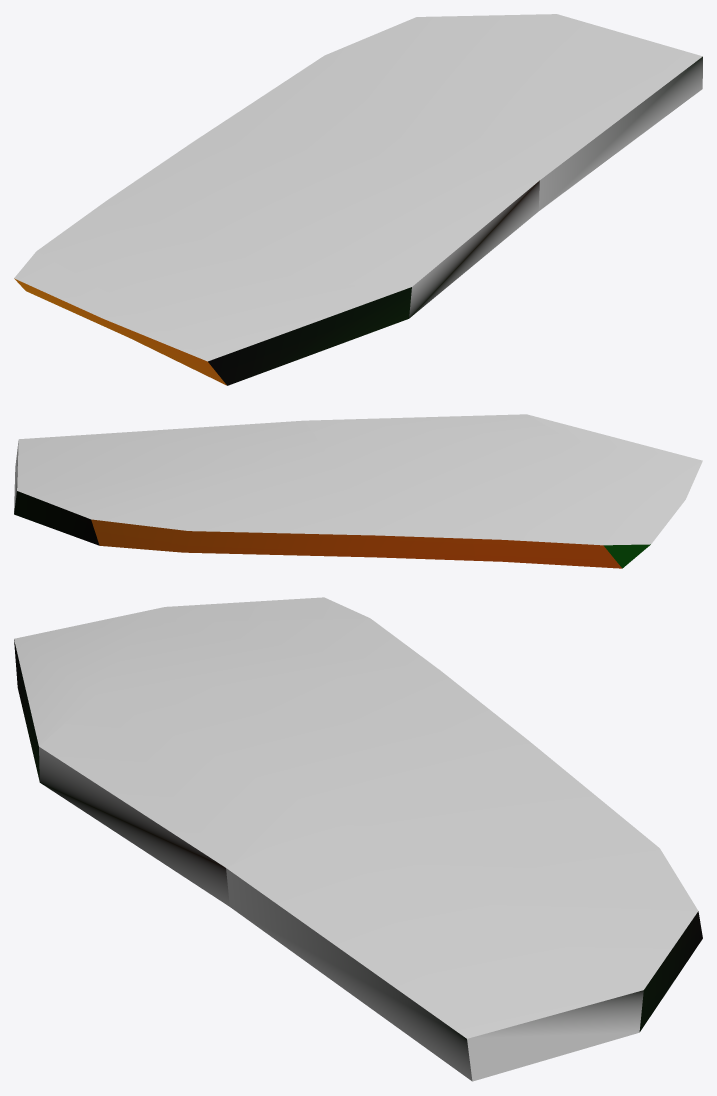
File: Part_3_Roof Piece_11.fbx
3 views of the same model, one above another, from view 1: azimuth 30°, elevation 25°; view 2: azimuth 150°, elevation 25°; view 3: azimuth 270°, elevation 25° (orthographic). The views are drawn at different scales.
Visible parts, largest first — view 1: Part_3_Roof Piece_11; view 2: Part_3_Roof Piece_11; view 3: Part_3_Roof Piece_11.
Part boxes in pixels (x1,y1,x2,y2): Part_3_Roof Piece_11: (14,14,702,385); Part_3_Roof Piece_11: (14,414,702,568); Part_3_Roof Piece_11: (14,597,702,1081).
Bounding box in the file's own units: 20.87 × 1.5 × 13.89.
